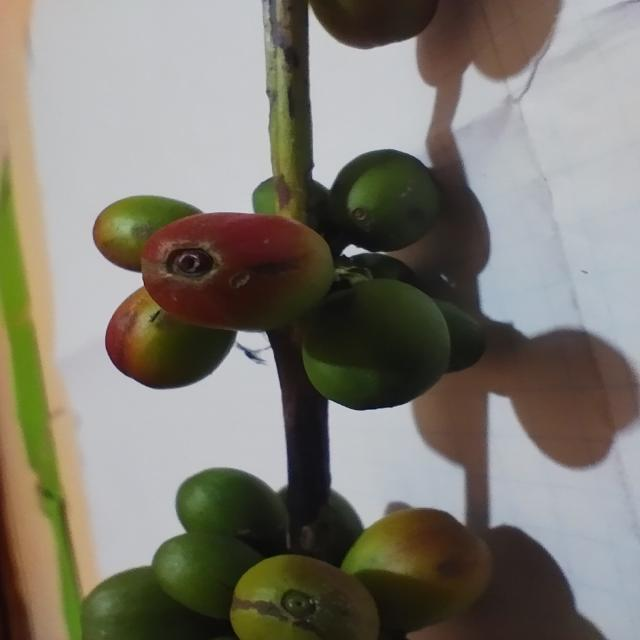Infectado: (332, 149, 443, 253)
Sano: (142, 214, 335, 333), (295, 283, 450, 413), (348, 508, 493, 635), (102, 287, 237, 392), (229, 556, 380, 640), (174, 468, 290, 558), (151, 534, 266, 624), (93, 196, 203, 277)
